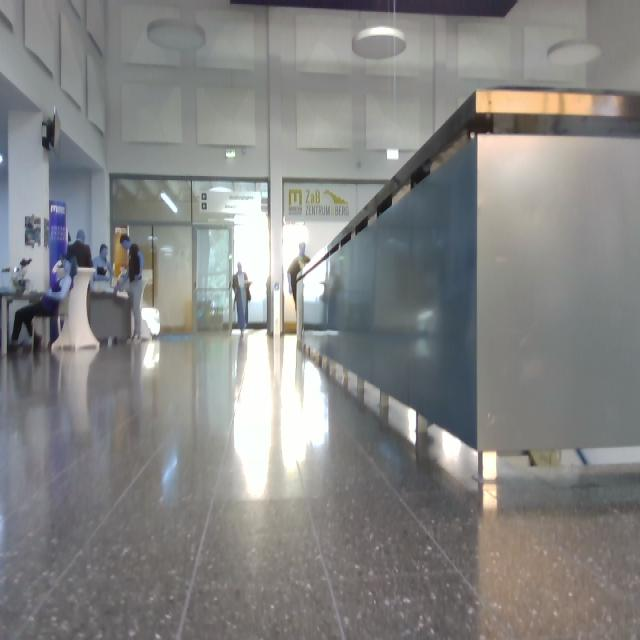door: (192, 181, 270, 329), (194, 228, 231, 332)
light bulb: (149, 20, 205, 52), (353, 26, 404, 60), (161, 192, 178, 214)
person: (12, 257, 77, 346), (115, 234, 142, 338), (67, 230, 111, 280), (234, 264, 252, 334), (289, 242, 310, 300)
staircase: (293, 89, 640, 484)
